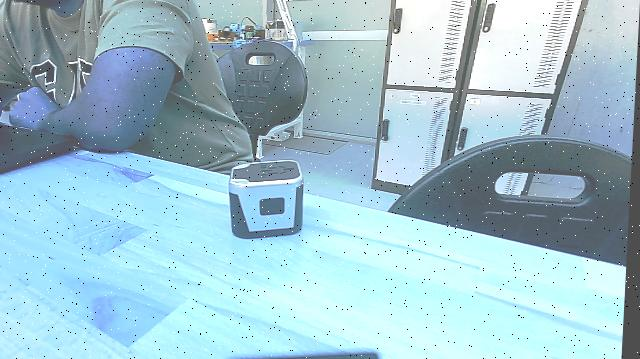adapter: (223, 156, 315, 241)
